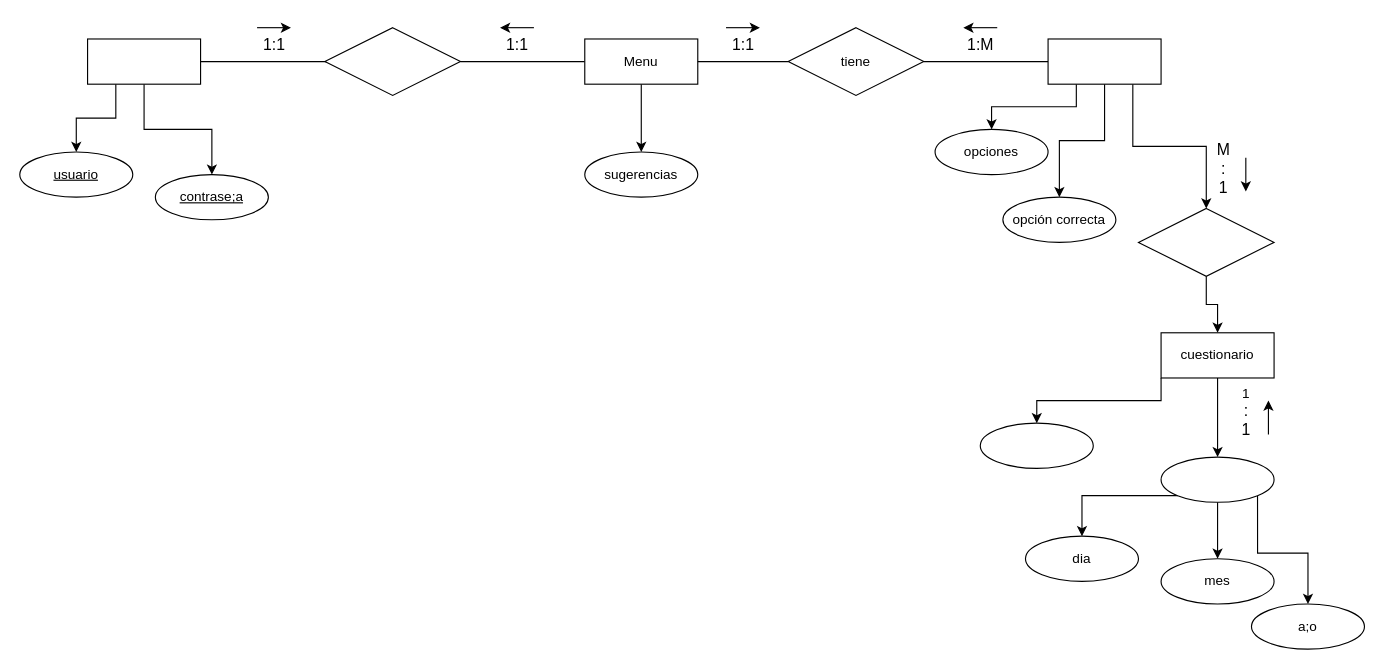
Some shapes in this 1384 by 669 pixel diagram are drawn without their labels. Each missing label, with the centre of its shape:
en: the point at 1205,241
Entra a: the point at 392,61
fecha: the point at 1217,479
Login: the point at 143,61
nota final: the point at 1036,445
preguntas: the point at 1104,61
